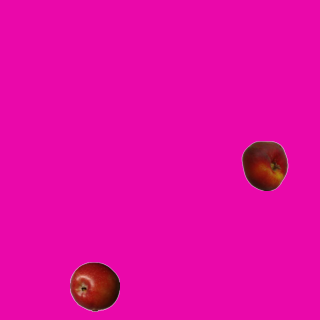Apple Braeburn: (69, 261, 119, 311)
Nectarine Flat: (239, 140, 289, 190)
